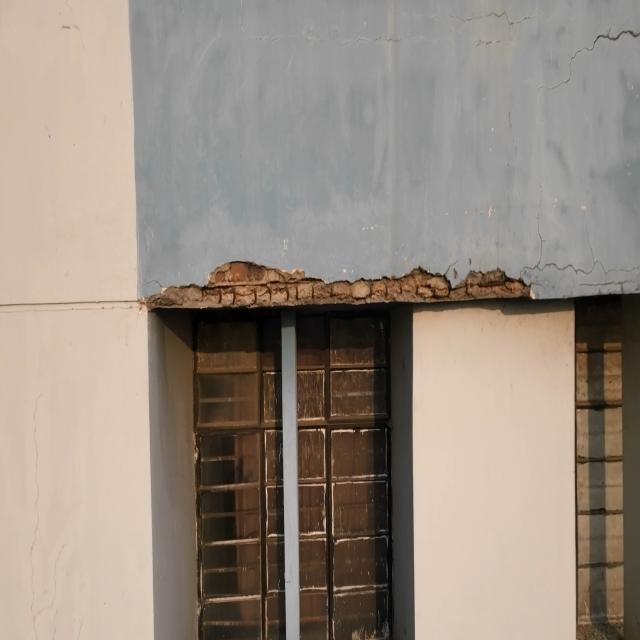crack: (551, 21, 640, 97)
spalling: (149, 258, 551, 316)
